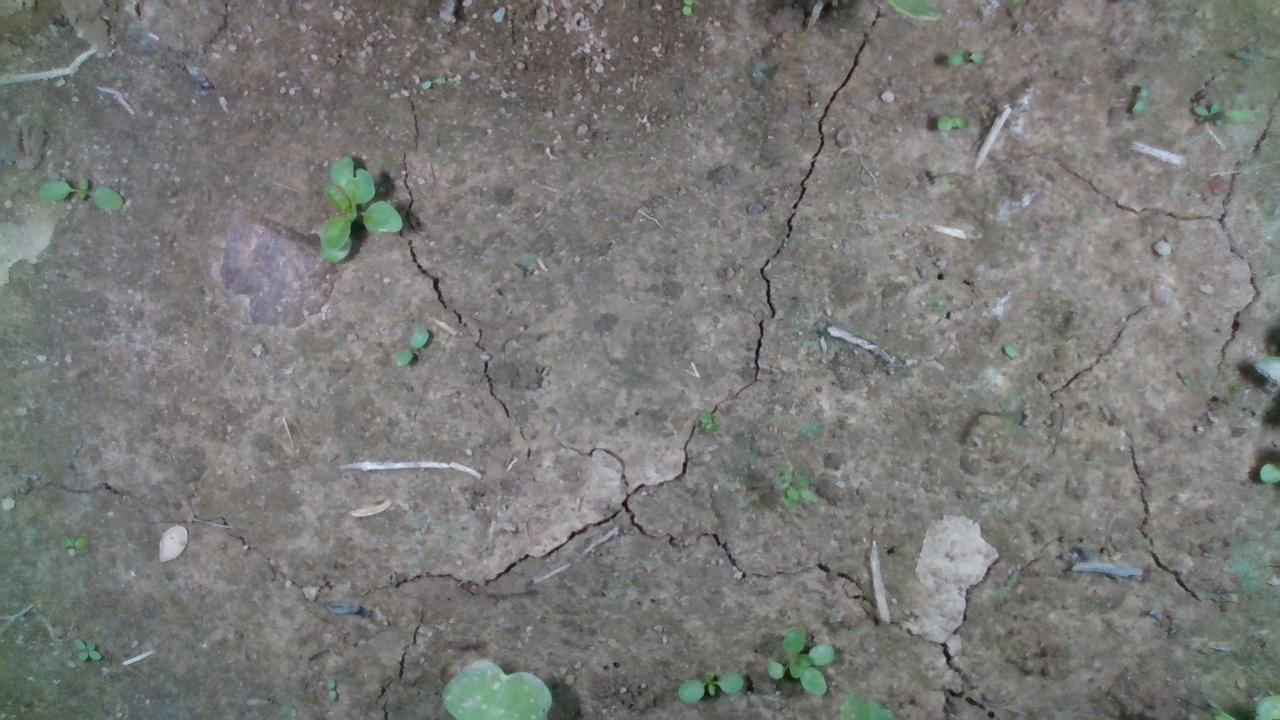weed: (763, 625, 836, 694), (33, 178, 124, 211), (674, 670, 744, 702), (390, 325, 430, 366), (945, 50, 985, 67), (934, 113, 967, 131), (694, 409, 716, 433)
